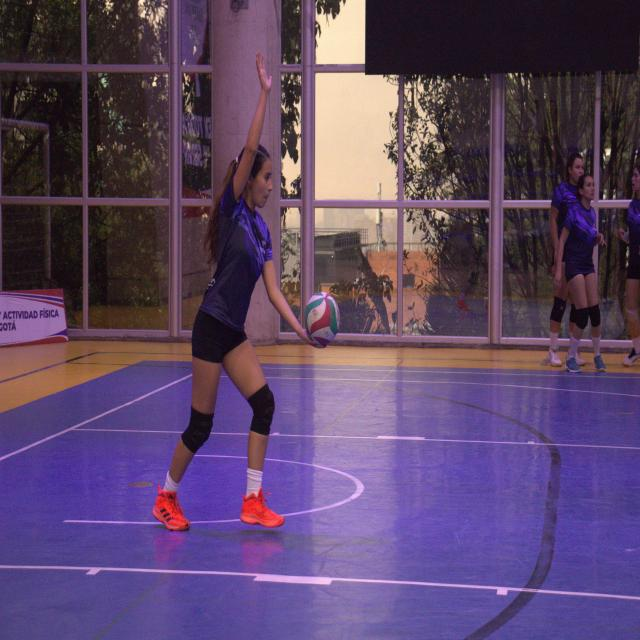volleyball: (304, 291, 340, 345)
